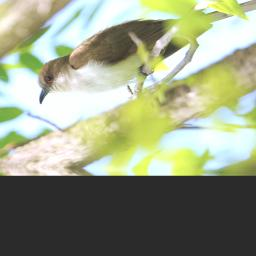Cuckoo: (34, 0, 256, 113)
